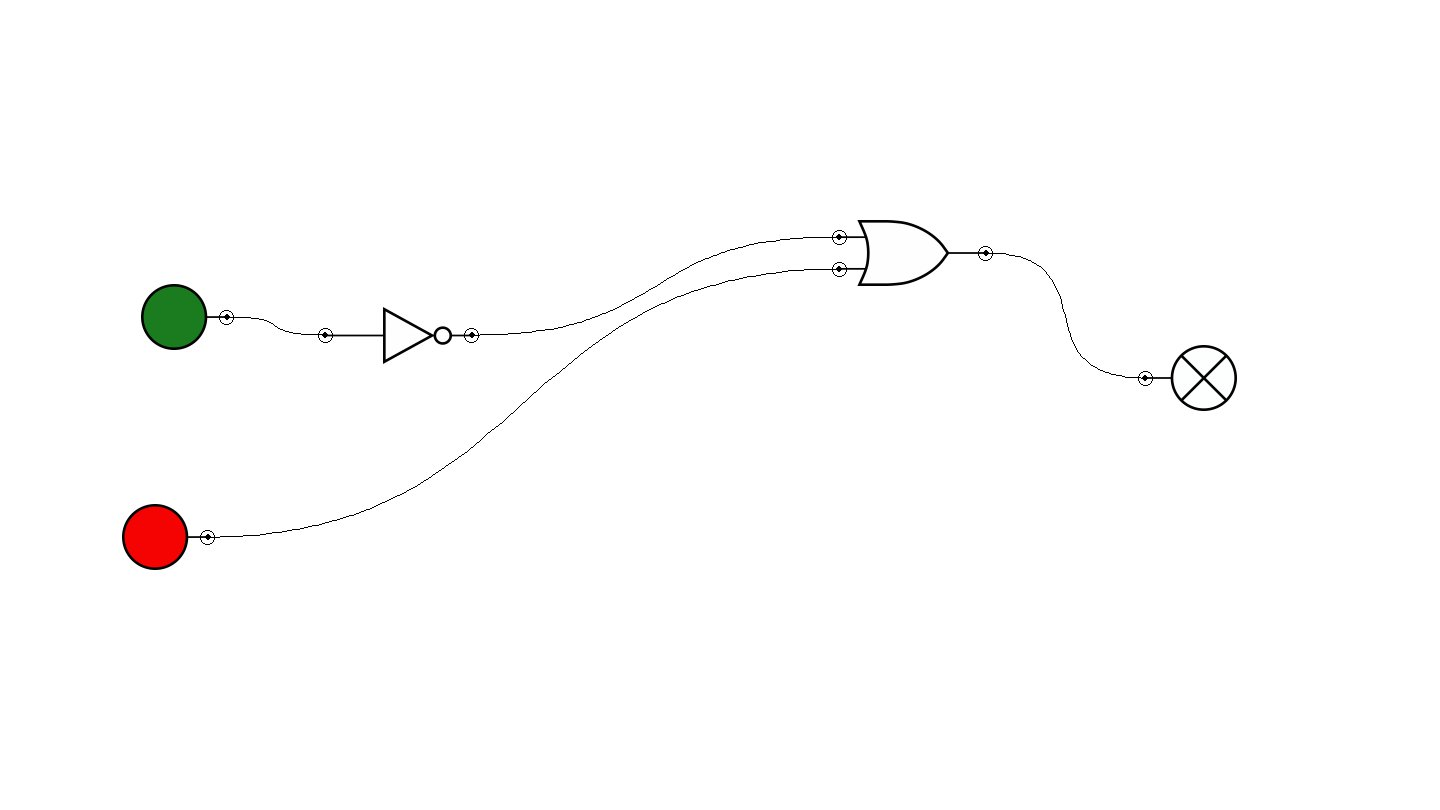bulb: (1138, 345, 1237, 411)
not: (318, 307, 479, 364)
or: (832, 220, 993, 286)
switch_False: (122, 504, 215, 570)
switch_True: (141, 284, 234, 350)
